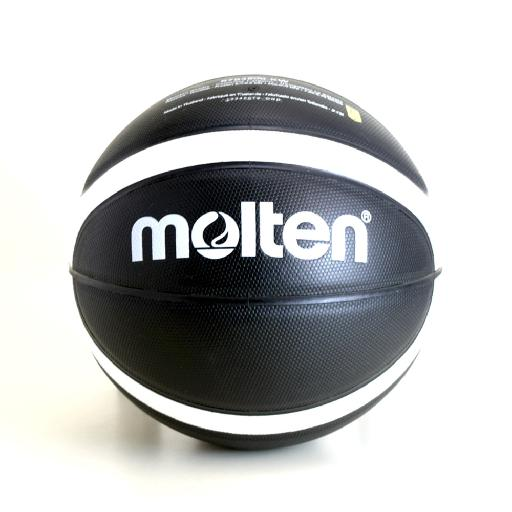ball: (68, 73, 443, 451)
